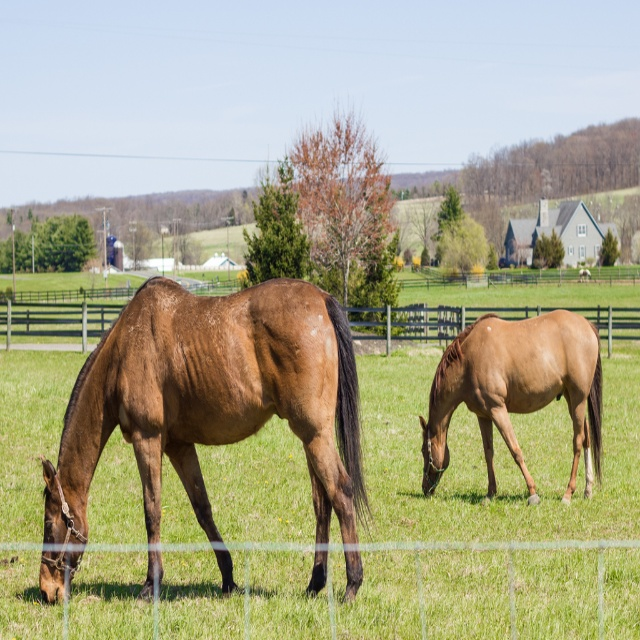Horse: (38, 277, 375, 606), (419, 310, 603, 508), (577, 269, 591, 283)
